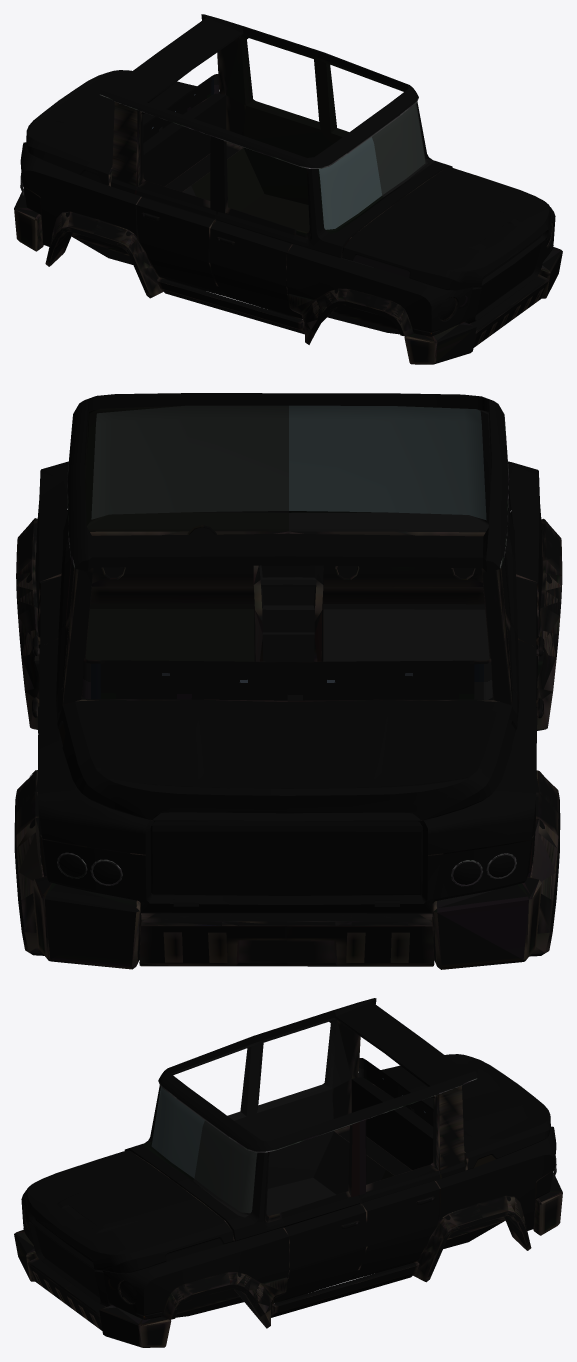
Rendered from carframe.fbx.
3 views of the same model, one above another, from view 1: azimuth 30°, elevation 25°; view 2: azimuth 150°, elevation 25°; view 3: azimuth 270°, elevation 25° (orthographic). The views are drawn at different scales.
Parts seen in each view (by area): view 1: node_id254, node_id262, node_id270, node_id264, node_id268, node_id256; view 2: node_id254, node_id262, node_id270, node_id258, node_id280, node_id256; view 3: node_id254, node_id262, node_id270, node_id264, node_id268, node_id256.
Boxes of the visible parts, <box> form: node_id254: <box>20,14,555,332</box>; node_id262: <box>14,34,562,364</box>; node_id270: <box>143,75,425,229</box>; node_id264: <box>476,235,541,314</box>; node_id268: <box>73,237,478,334</box>; node_id256: <box>20,94,418,244</box>; node_id254: <box>35,393,542,913</box>; node_id262: <box>14,405,562,969</box>; node_id270: <box>82,405,492,700</box>; node_id258: <box>59,854,514,884</box>; node_id280: <box>261,565,315,605</box>; node_id256: <box>32,413,544,886</box>; node_id254: <box>21,998,556,1315</box>; node_id262: <box>14,1018,562,1347</box>; node_id270: <box>151,1059,433,1213</box>; node_id264: <box>34,1218,99,1297</box>; node_id268: <box>98,1221,504,1317</box>; node_id256: <box>158,1078,556,1228</box>.
Bounding box in the file's own units: 0.8603 × 0.4124 × 1.03.
Materials: 14 (14 with a texture image).
